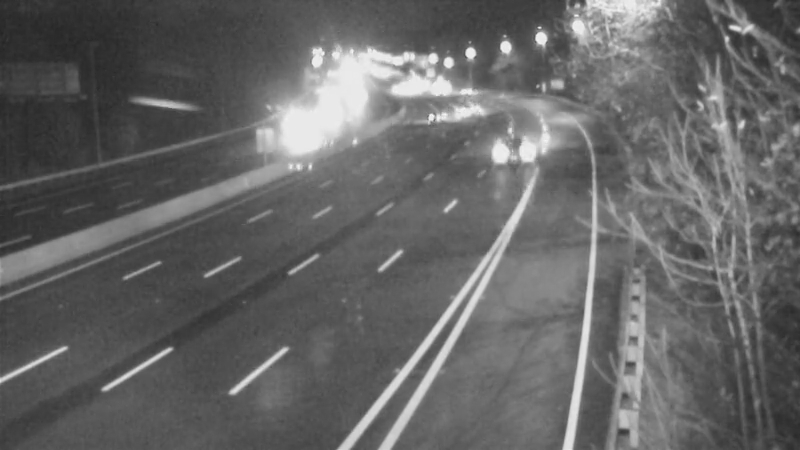vehicle: (441, 66, 491, 116), (440, 85, 490, 135), (415, 90, 465, 140), (492, 123, 542, 173), (276, 109, 326, 159)
